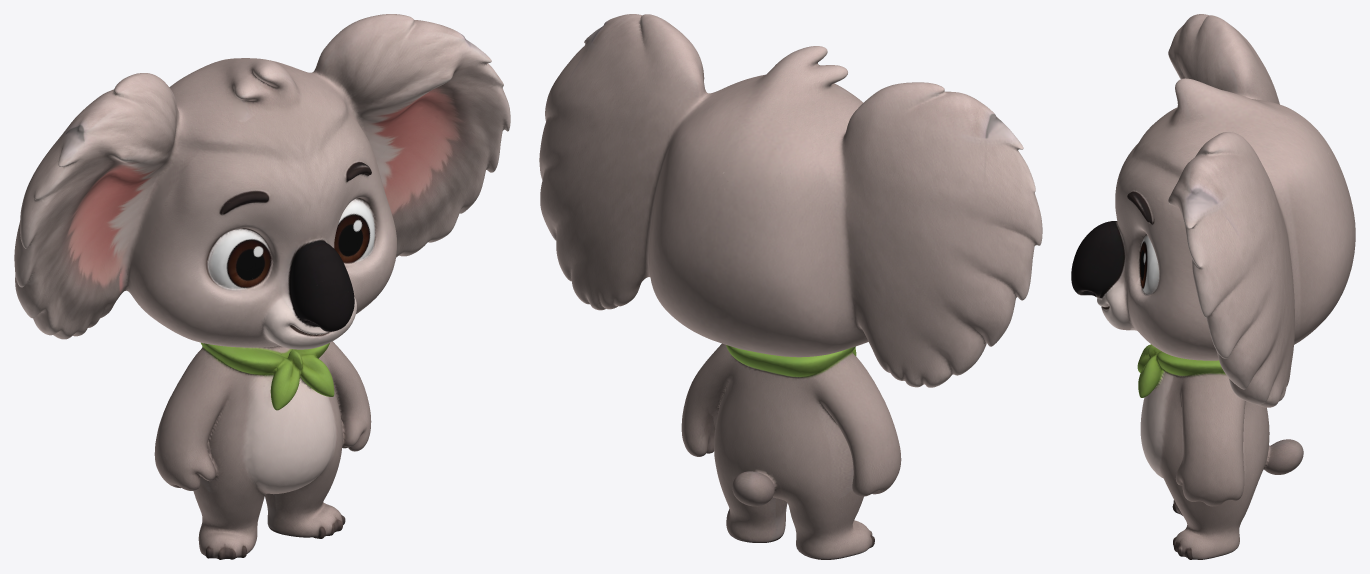
Rendered from Puky.glb.
3 renders of one model, left to right at view 1: azimuth 30°, elevation 25°; view 2: azimuth 150°, elevation 25°; view 3: azimuth 270°, elevation 25°, orthographic. The views are drawn at different scales.
Size of the model in its own units: 1.9 by 1.81 by 1.03.
Materials: 1 (1 with a texture image).
